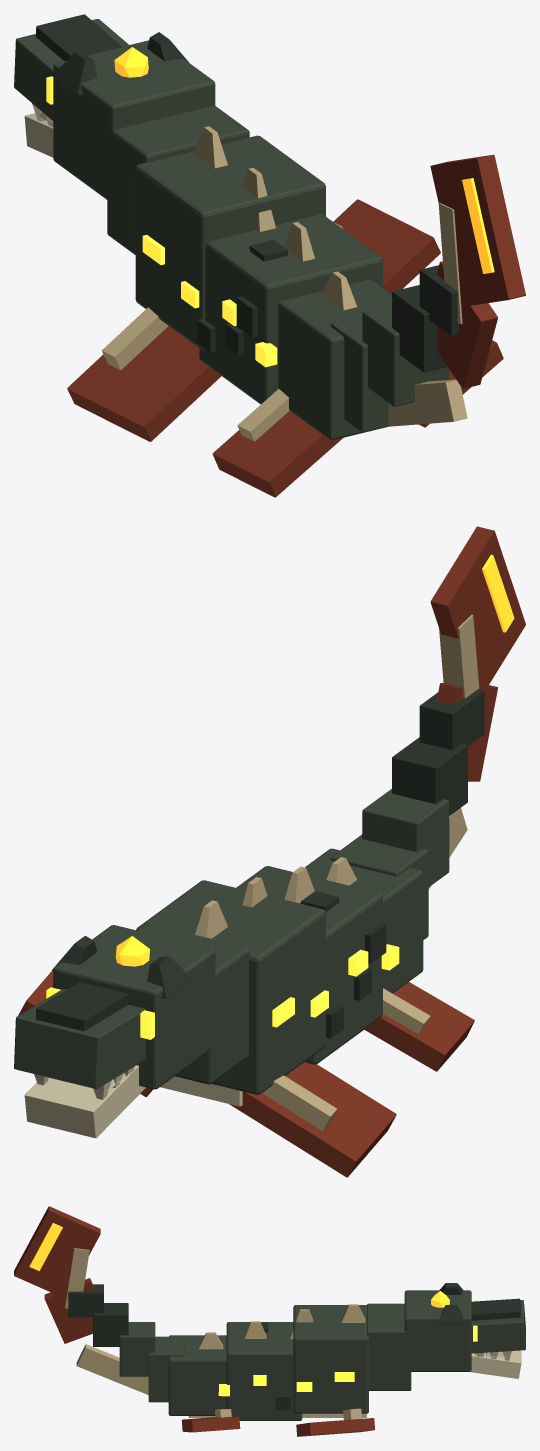
The model's file is mosasaurus.glb.
The picture shows the model from 3 angles, top to bottom: view 1: azimuth 30°, elevation 25°; view 2: azimuth 150°, elevation 25°; view 3: azimuth 270°, elevation 25°; orthographic projection. The views are drawn at different scales.
Parts seen in each view (by area): view 1: body, head, tail, fin.tail, fin.R, leg.BR, fin.L; view 2: body, head, tail, fin.tail, fin.R, leg.BR; view 3: body, head, tail, fin.tail, fin.L, leg.BL.
Boxes of the visible parts, x1,y1,x2,y2 form: body: [107, 105, 391, 440]; head: [14, 14, 215, 200]; tail: [330, 265, 467, 432]; fin.tail: [430, 154, 525, 388]; fin.R: [67, 307, 221, 441]; leg.BR: [212, 389, 343, 497]; fin.L: [333, 199, 440, 294]; body: [136, 848, 423, 1106]; head: [14, 925, 215, 1138]; tail: [330, 689, 484, 939]; fin.tail: [430, 526, 525, 781]; fin.R: [229, 1062, 396, 1177]; leg.BR: [364, 982, 474, 1071]; body: [168, 1303, 411, 1420]; head: [404, 1283, 525, 1378]; tail: [68, 1284, 184, 1402]; fin.tail: [14, 1206, 100, 1343]; fin.L: [296, 1408, 374, 1436]; leg.BL: [181, 1409, 240, 1432].
Bounding box in the file's own units: 0.8474 × 0.999 × 2.02.
